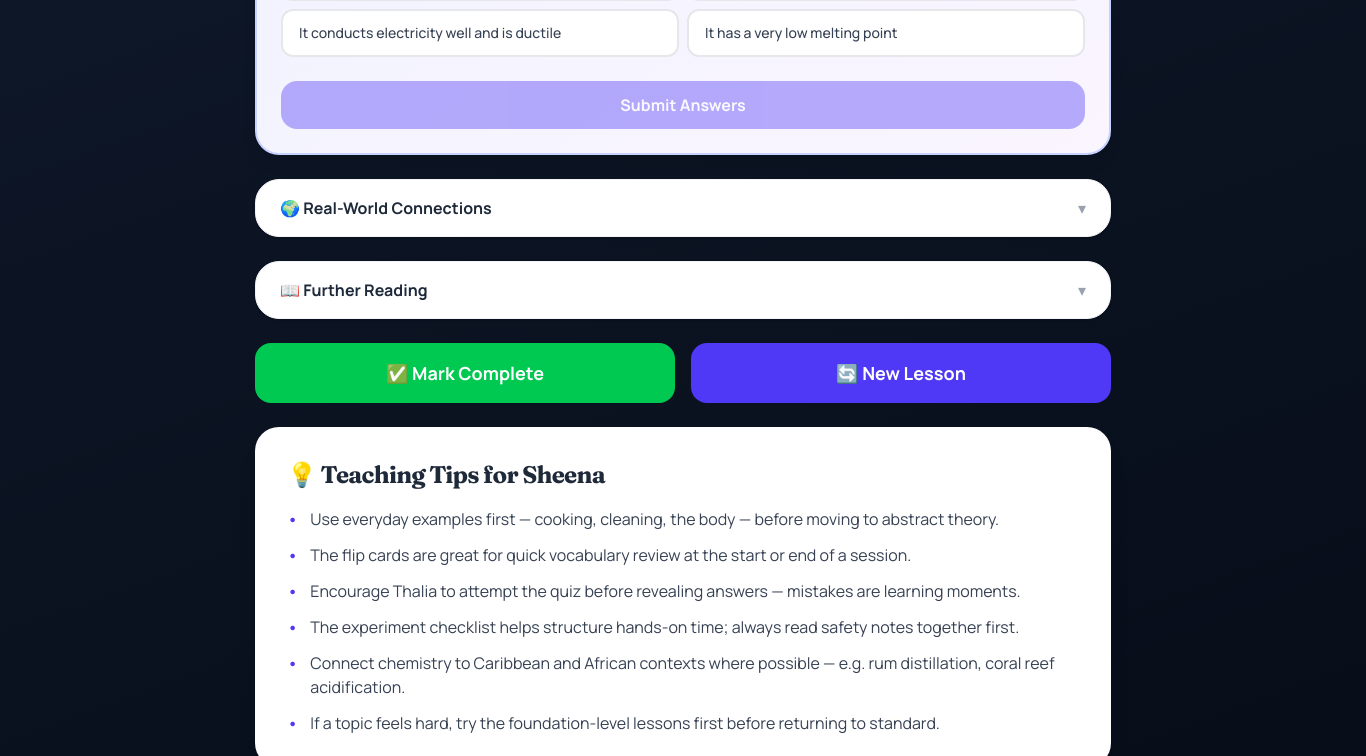
Test case: ChemistryInteractive › increments completed count when Mark Complete is clicked
(page scrolled)
Click the button "✅ Mark Complete": x=465, y=372 [255,342,675,402]
(page scrolled)
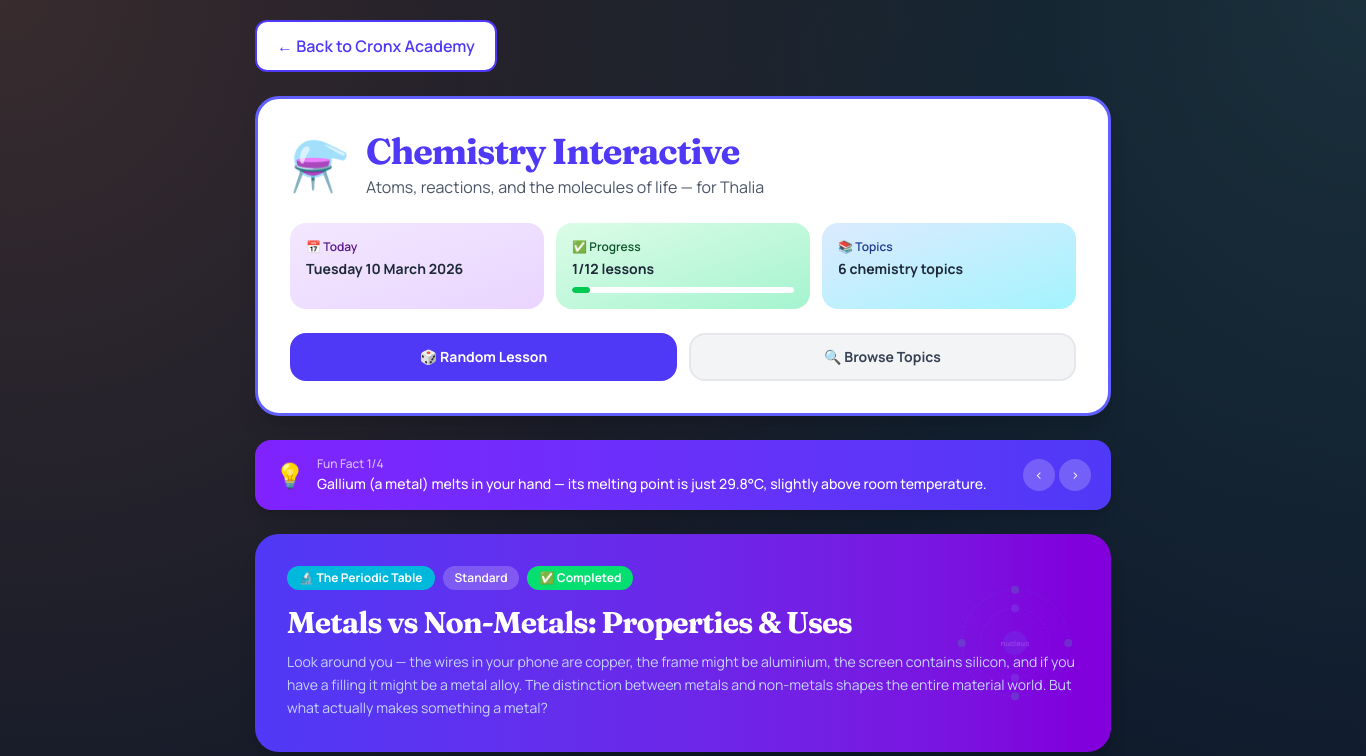
Expected: the text "1/12 lessons" is shown, [572,259,654,278]
